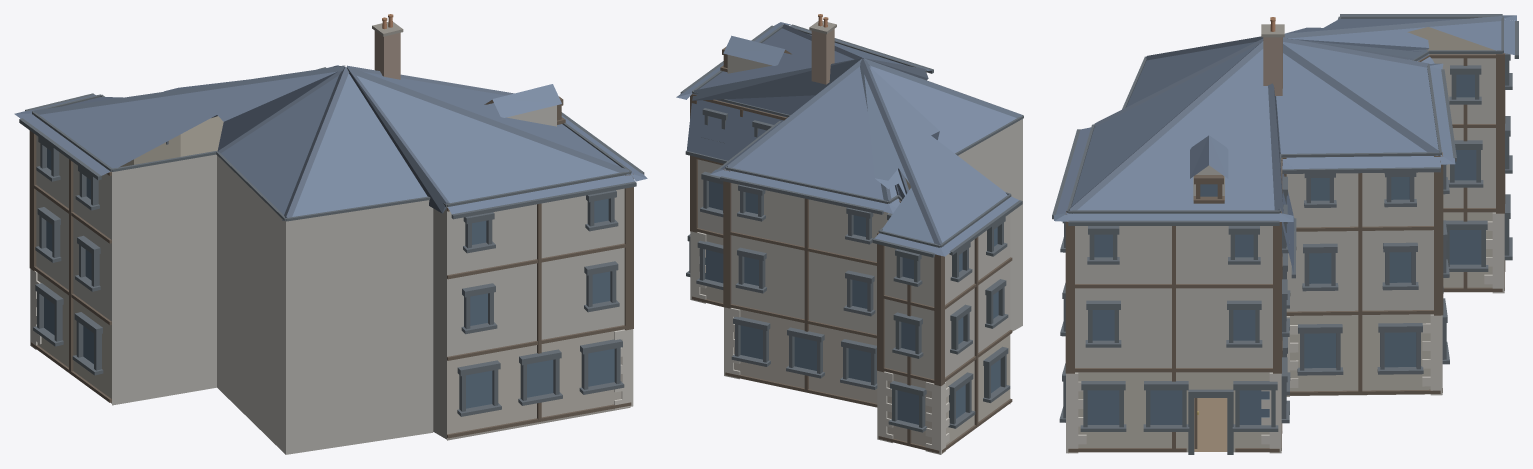
The picture shows the model from 3 angles, left to right: view 1: azimuth 30°, elevation 25°; view 2: azimuth 150°, elevation 25°; view 3: azimuth 270°, elevation 25°; orthographic projection. The views are drawn at different scales.
Parts seen in each view (by area): view 1: B133_visible; view 2: B133_visible; view 3: B133_visible.
Boxes of the visible parts, <box> form: B133_visible: <box>14,14,647,454</box>; B133_visible: <box>676,14,1023,454</box>; B133_visible: <box>1052,14,1518,454</box>.
Bounding box in the file's own units: 17.89 × 14.61 × 16.95.
